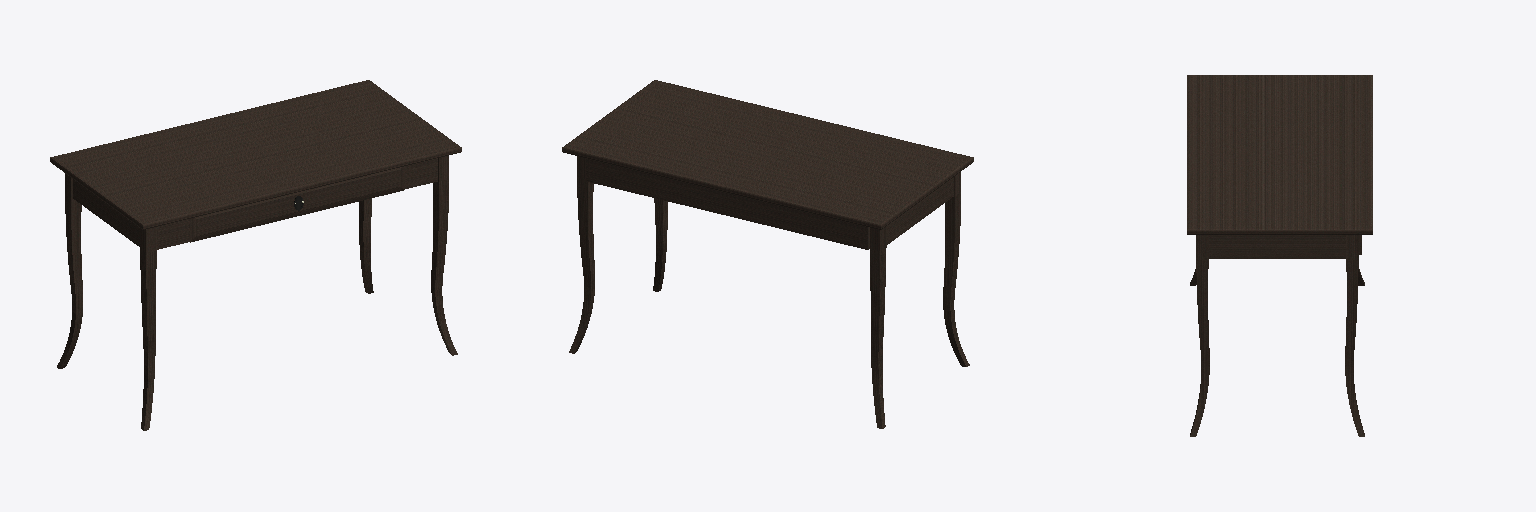
3 renders of one model, left to right at view 1: azimuth 30°, elevation 25°; view 2: azimuth 150°, elevation 25°; view 3: azimuth 270°, elevation 25°, orthographic.
Visible parts, largest first — view 1: Mesh3 Group4 Group3 Model, Mesh4 Group3 Model, Mesh11 Group10 Group_2_1 Model, Mesh7 Group7 Group6 Model, Mesh1 Group2 Group1 Model, Mesh9 Group9 Group8 Model; view 2: Mesh3 Group4 Group3 Model, Mesh4 Group3 Model, Mesh1 Group2 Group1 Model, Mesh11 Group10 Group_2_1 Model, Mesh9 Group9 Group8 Model, Mesh7 Group7 Group6 Model; view 3: Mesh3 Group4 Group3 Model, Mesh4 Group3 Model, Mesh9 Group9 Group8 Model, Mesh7 Group7 Group6 Model.
Boxes of the visible parts, box(x1,y1,x2,y2) form: Mesh3 Group4 Group3 Model: box(50, 80, 461, 229); Mesh4 Group3 Model: box(73, 158, 437, 249); Mesh11 Group10 Group_2_1 Model: box(140, 249, 156, 430); Mesh7 Group7 Group6 Model: box(431, 180, 457, 355); Mesh1 Group2 Group1 Model: box(57, 194, 82, 368); Mesh9 Group9 Group8 Model: box(359, 198, 373, 293); Mesh3 Group4 Group3 Model: box(562, 80, 973, 229); Mesh4 Group3 Model: box(586, 158, 953, 249); Mesh1 Group2 Group1 Model: box(870, 247, 886, 428); Mesh11 Group10 Group_2_1 Model: box(943, 193, 969, 366); Mesh9 Group9 Group8 Model: box(569, 178, 594, 353); Mesh7 Group7 Group6 Model: box(653, 198, 667, 291); Mesh3 Group4 Group3 Model: box(1187, 75, 1372, 234); Mesh4 Group3 Model: box(1209, 235, 1361, 258); Mesh9 Group9 Group8 Model: box(1345, 260, 1364, 436); Mesh7 Group7 Group6 Model: box(1190, 260, 1209, 436).
Size of the model in its own units: 119 by 74 by 60.
Materials: 3 (2 with a texture image).